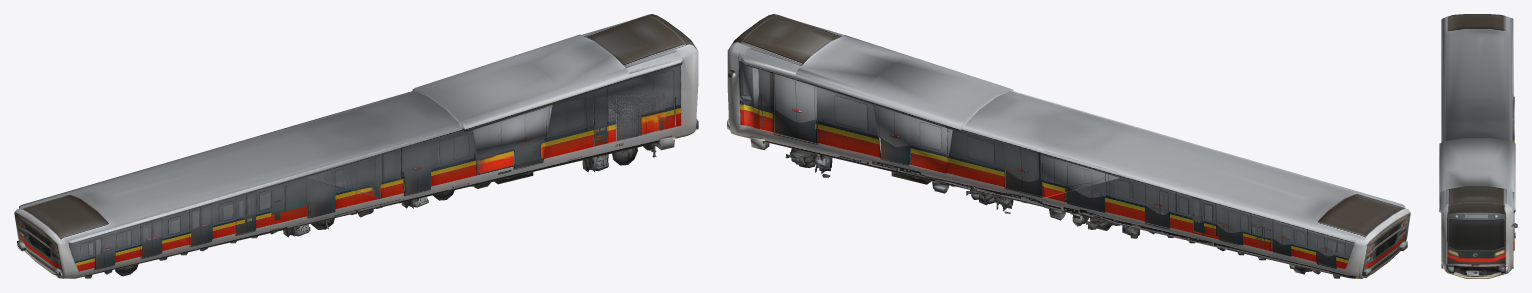
File: tile27.glb
3 views of the same model, side by side, from view 1: azimuth 30°, elevation 25°; view 2: azimuth 150°, elevation 25°; view 3: azimuth 270°, elevation 25° (orthographic). The views are drawn at different scales.
Visible parts, largest first — view 1: tripo_node_8ddc85ef-0757-414a-b332-542d67463e35; view 2: tripo_node_8ddc85ef-0757-414a-b332-542d67463e35; view 3: tripo_node_8ddc85ef-0757-414a-b332-542d67463e35.
Boxes of the visible parts, x1,y1,x2,y2 form: tripo_node_8ddc85ef-0757-414a-b332-542d67463e35: (14, 14, 698, 278); tripo_node_8ddc85ef-0757-414a-b332-542d67463e35: (727, 14, 1410, 278); tripo_node_8ddc85ef-0757-414a-b332-542d67463e35: (1439, 14, 1517, 278).
Size of the model in its own units: 3.81 by 0.663 by 0.5587.
1 material, 1 textured.
